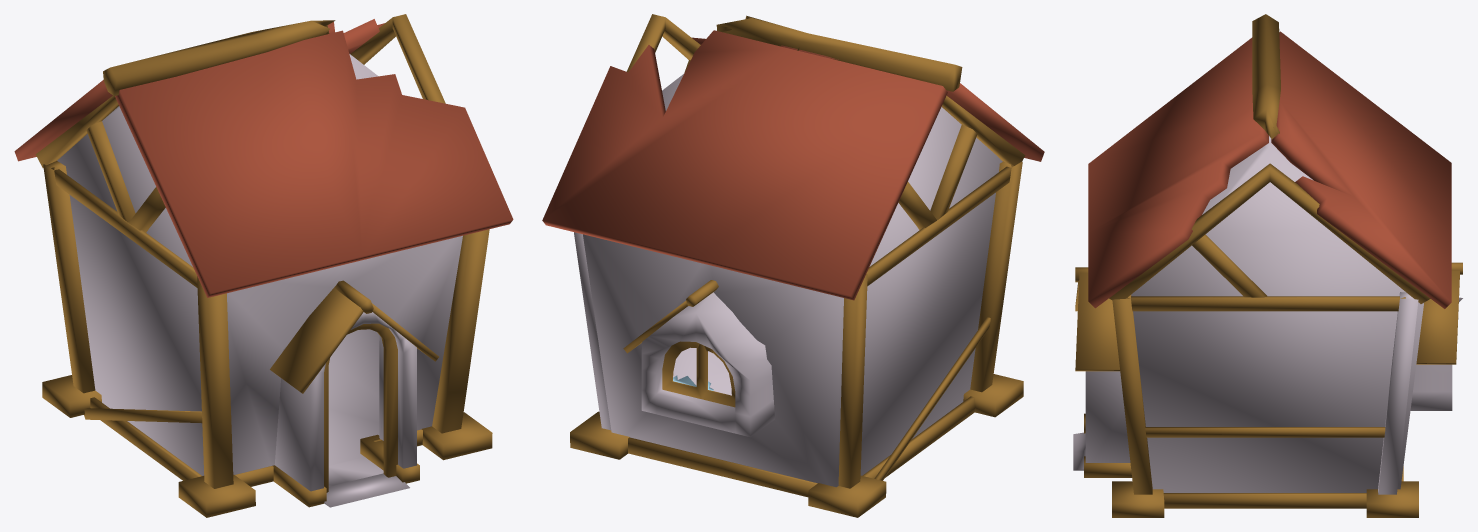
File: house_ab.fbx
3 renders of one model, left to right at view 1: azimuth 30°, elevation 25°; view 2: azimuth 150°, elevation 25°; view 3: azimuth 270°, elevation 25°, orthographic. The views are drawn at different scales.
Visible parts, largest first — view 1: house.abandoned; view 2: house.abandoned; view 3: house.abandoned.
Boxes of the visible parts, <box> form: house.abandoned: <box>14,14,513,517</box>; house.abandoned: <box>542,14,1044,517</box>; house.abandoned: <box>1073,14,1462,517</box>.
Size of the model in its own units: 319 by 390 by 370.
